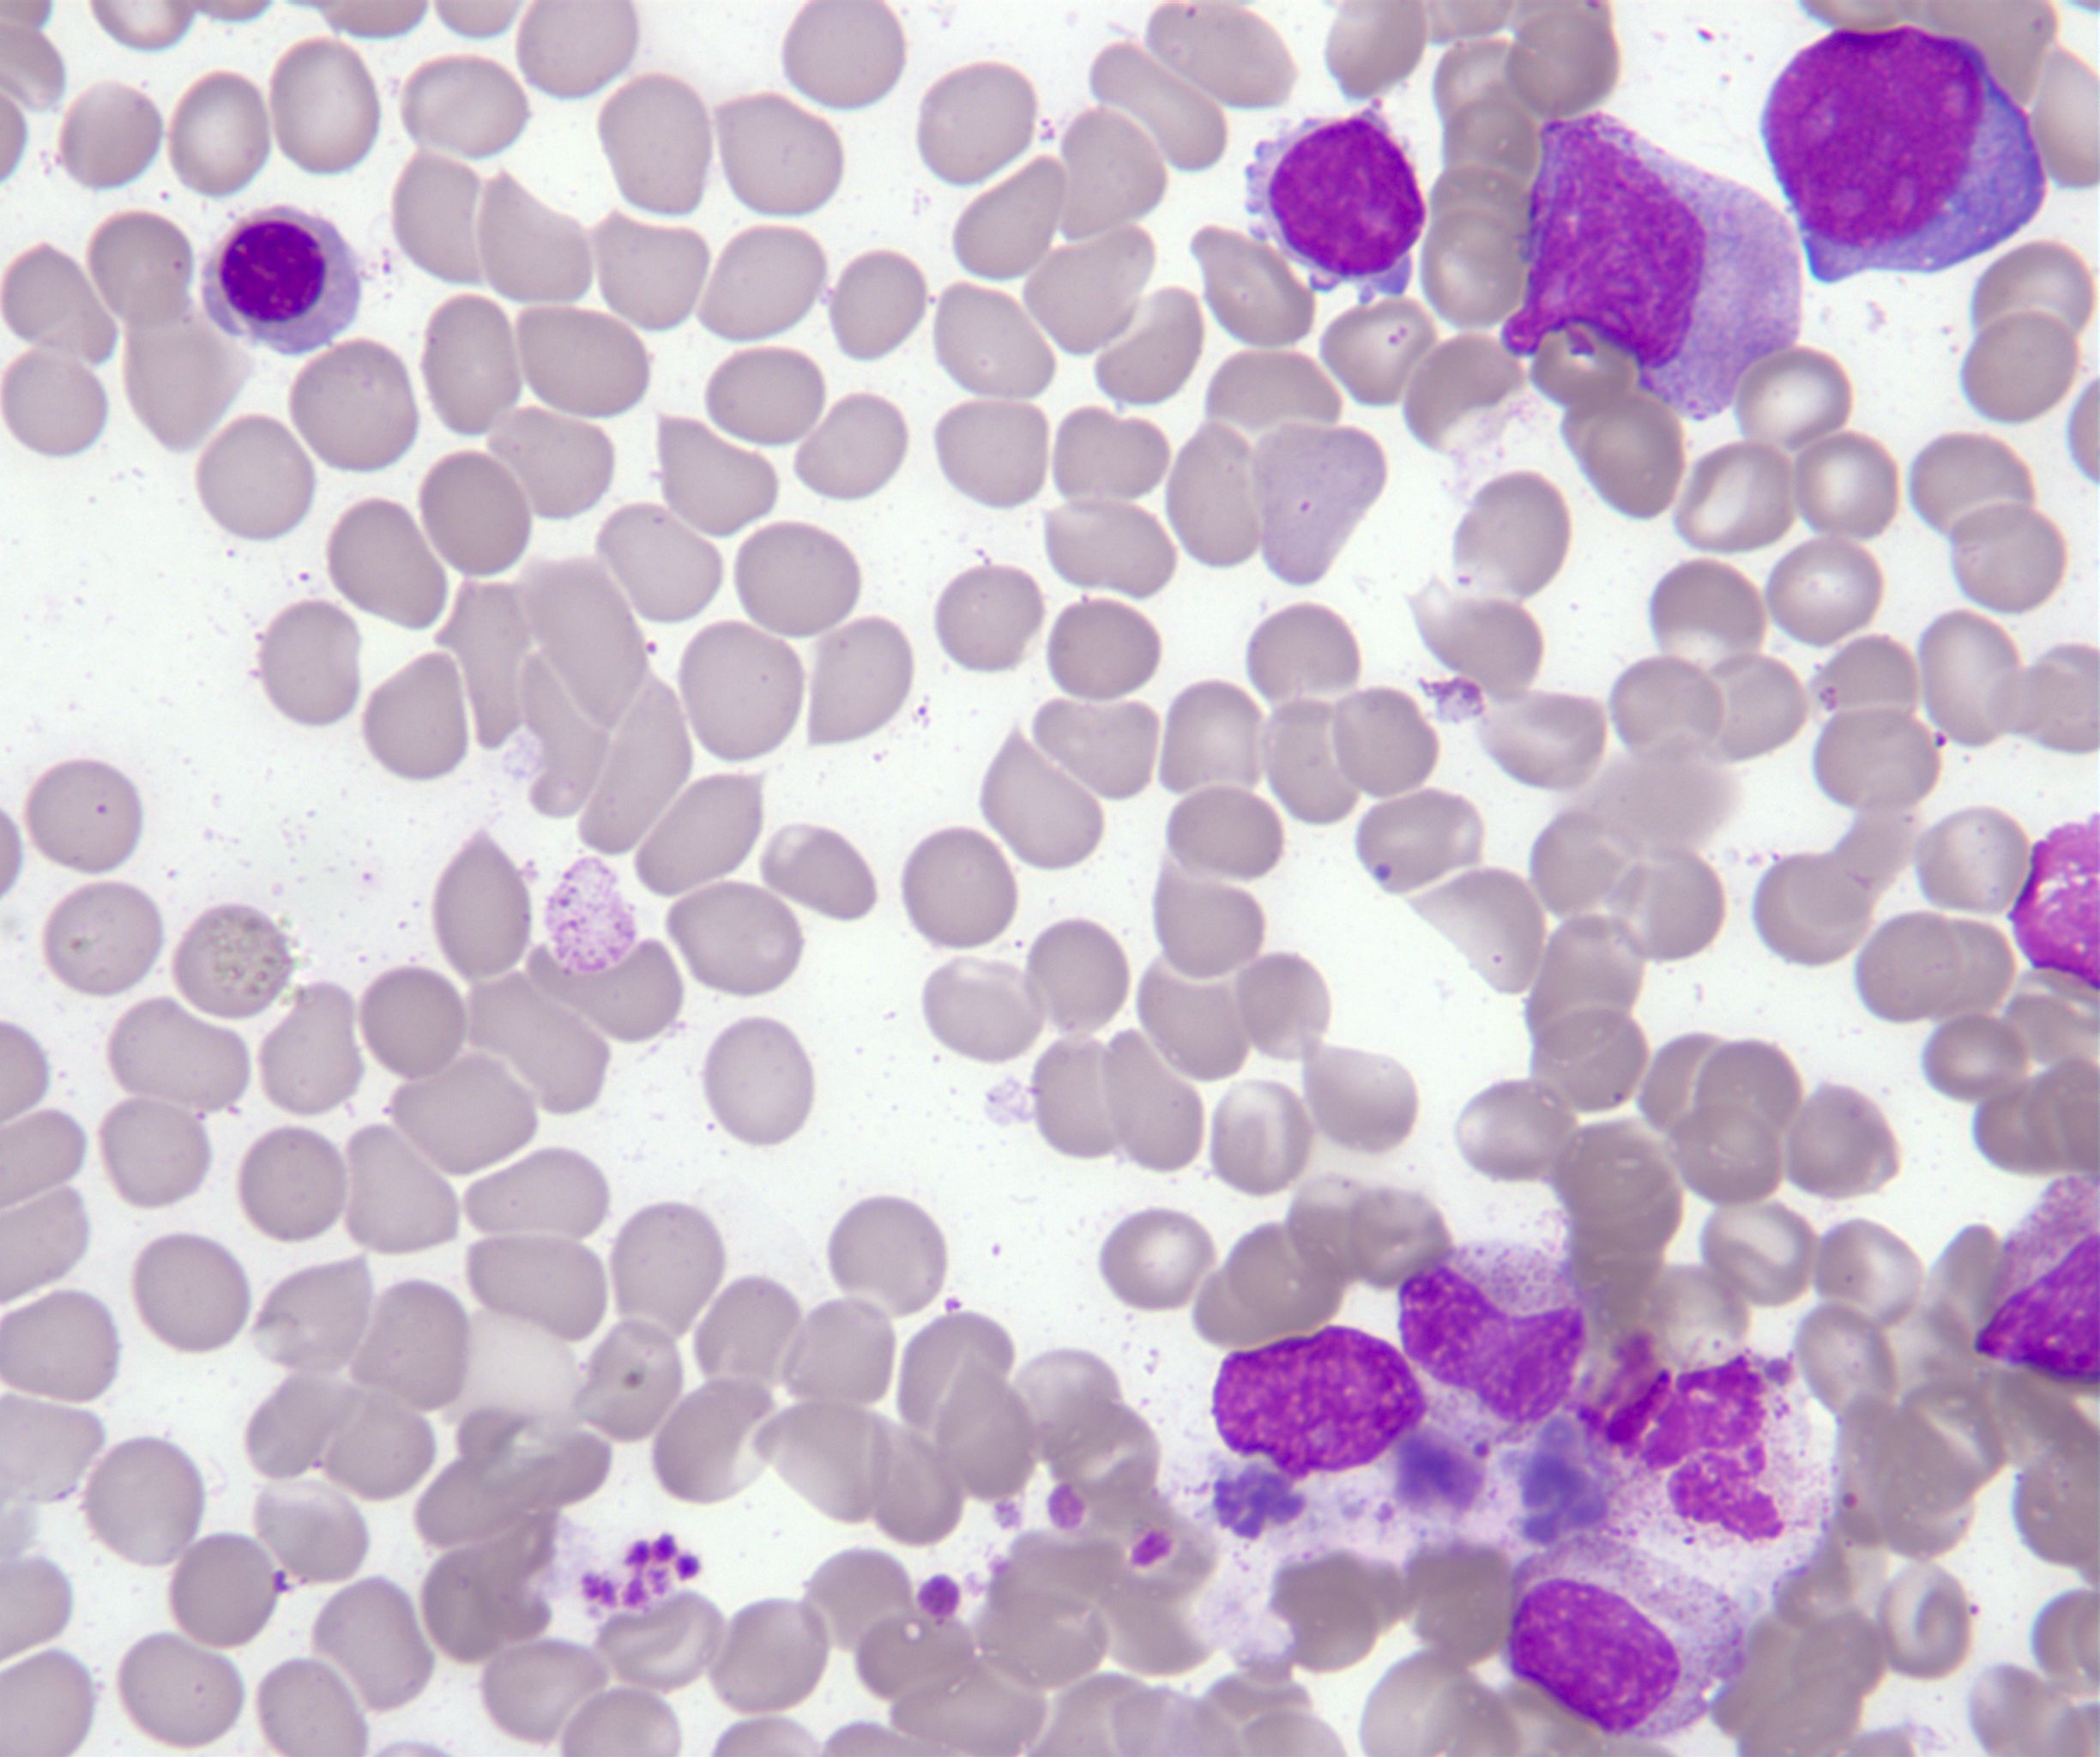1: (1756, 17, 2046, 286)
23: (192, 199, 365, 359)
3: (1498, 105, 1807, 422), (1505, 1530, 1751, 1747)
32: (1242, 103, 1430, 290)
4: (1390, 1237, 1592, 1448)
x: (1203, 1321, 1430, 1483)
